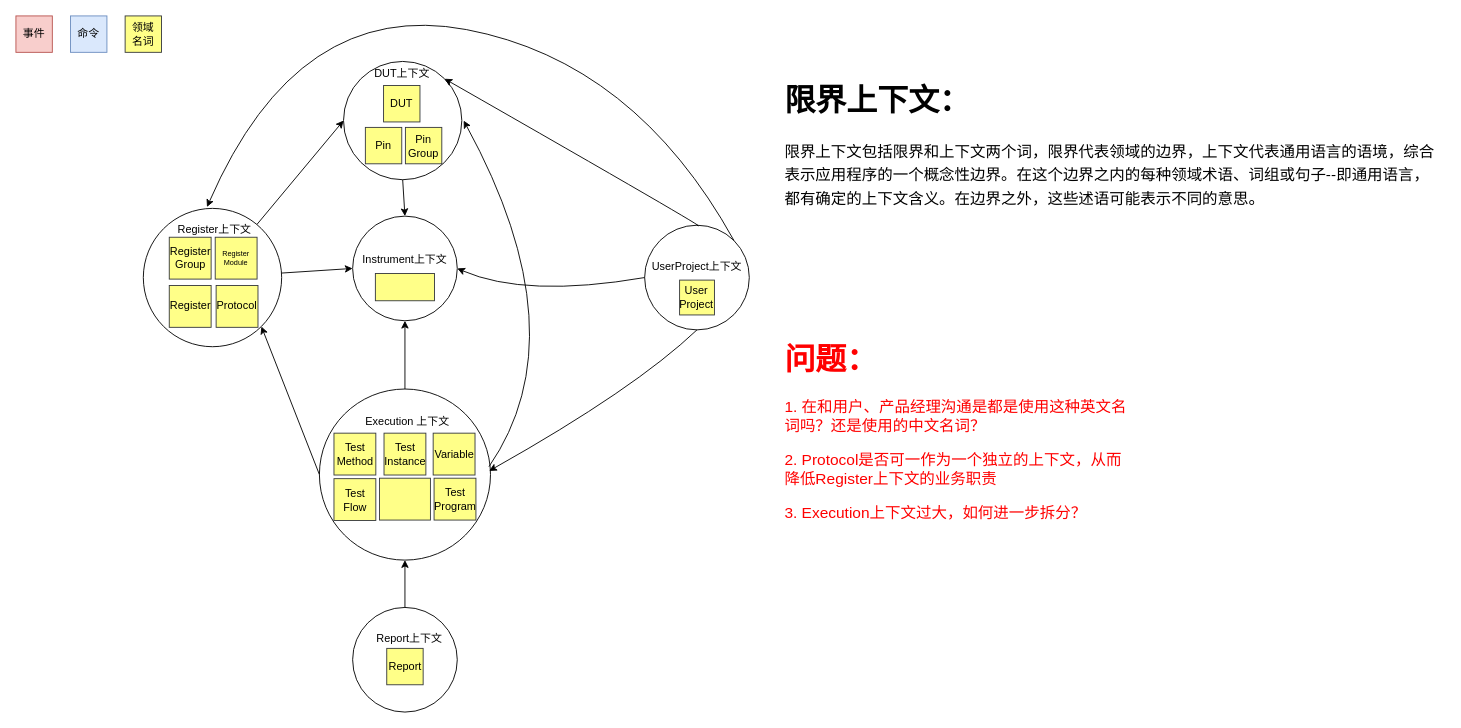
Some shapes in this 1461 by 728 pixel diagram are drawn without their labels. The shapes that lost their labels are listed below. From the top down, each one's centre as x and y in pixels, then its label:
At point (404, 287): "Instrument".
At point (404, 498): "Test Descriptor".
